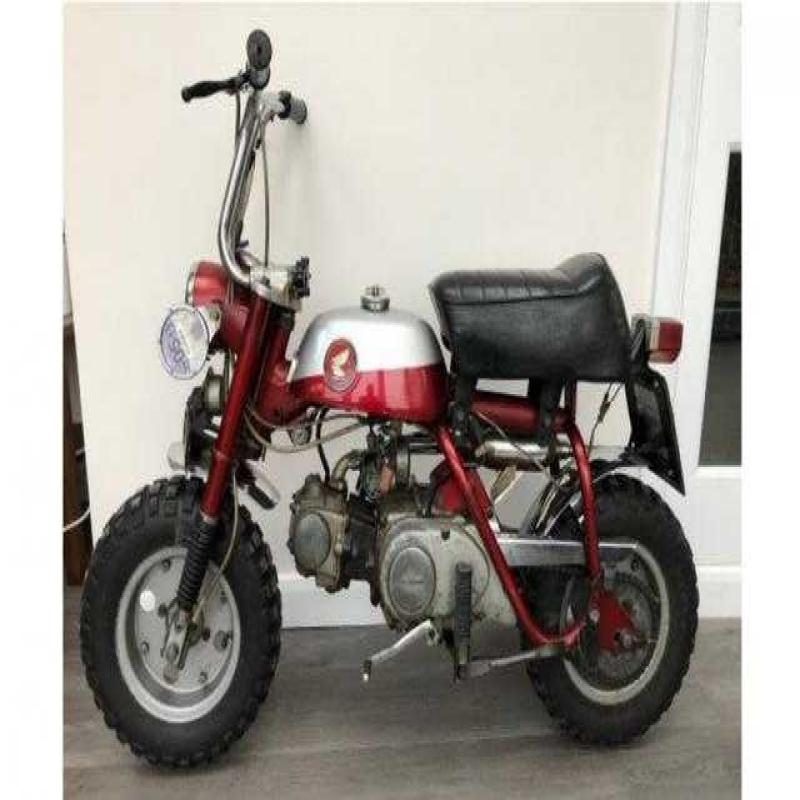bike: (122, 0, 692, 724)
